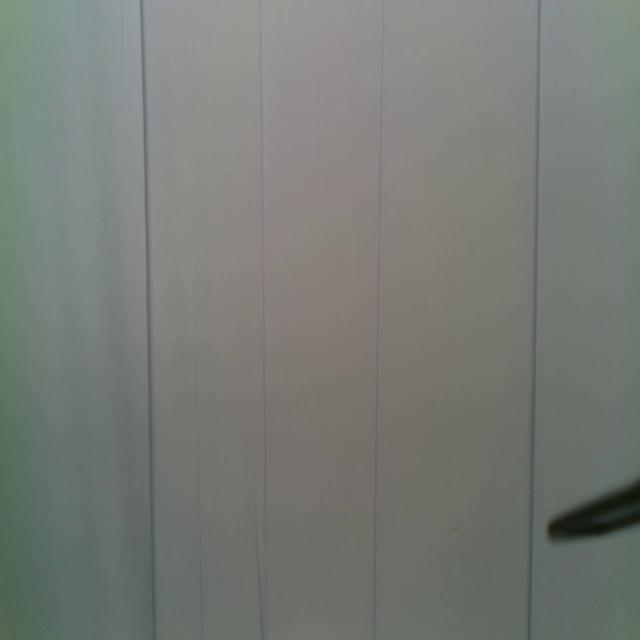crease: (526, 0, 543, 638), (140, 0, 156, 640), (372, 2, 387, 636), (259, 0, 270, 637), (192, 318, 205, 640), (251, 509, 262, 640)
